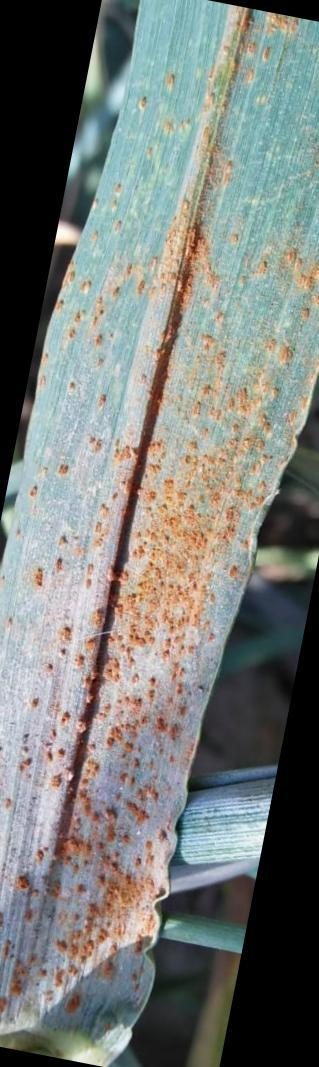Wheat: (14, 626, 129, 1017), (42, 426, 239, 607), (66, 270, 296, 411), (140, 60, 262, 258)
